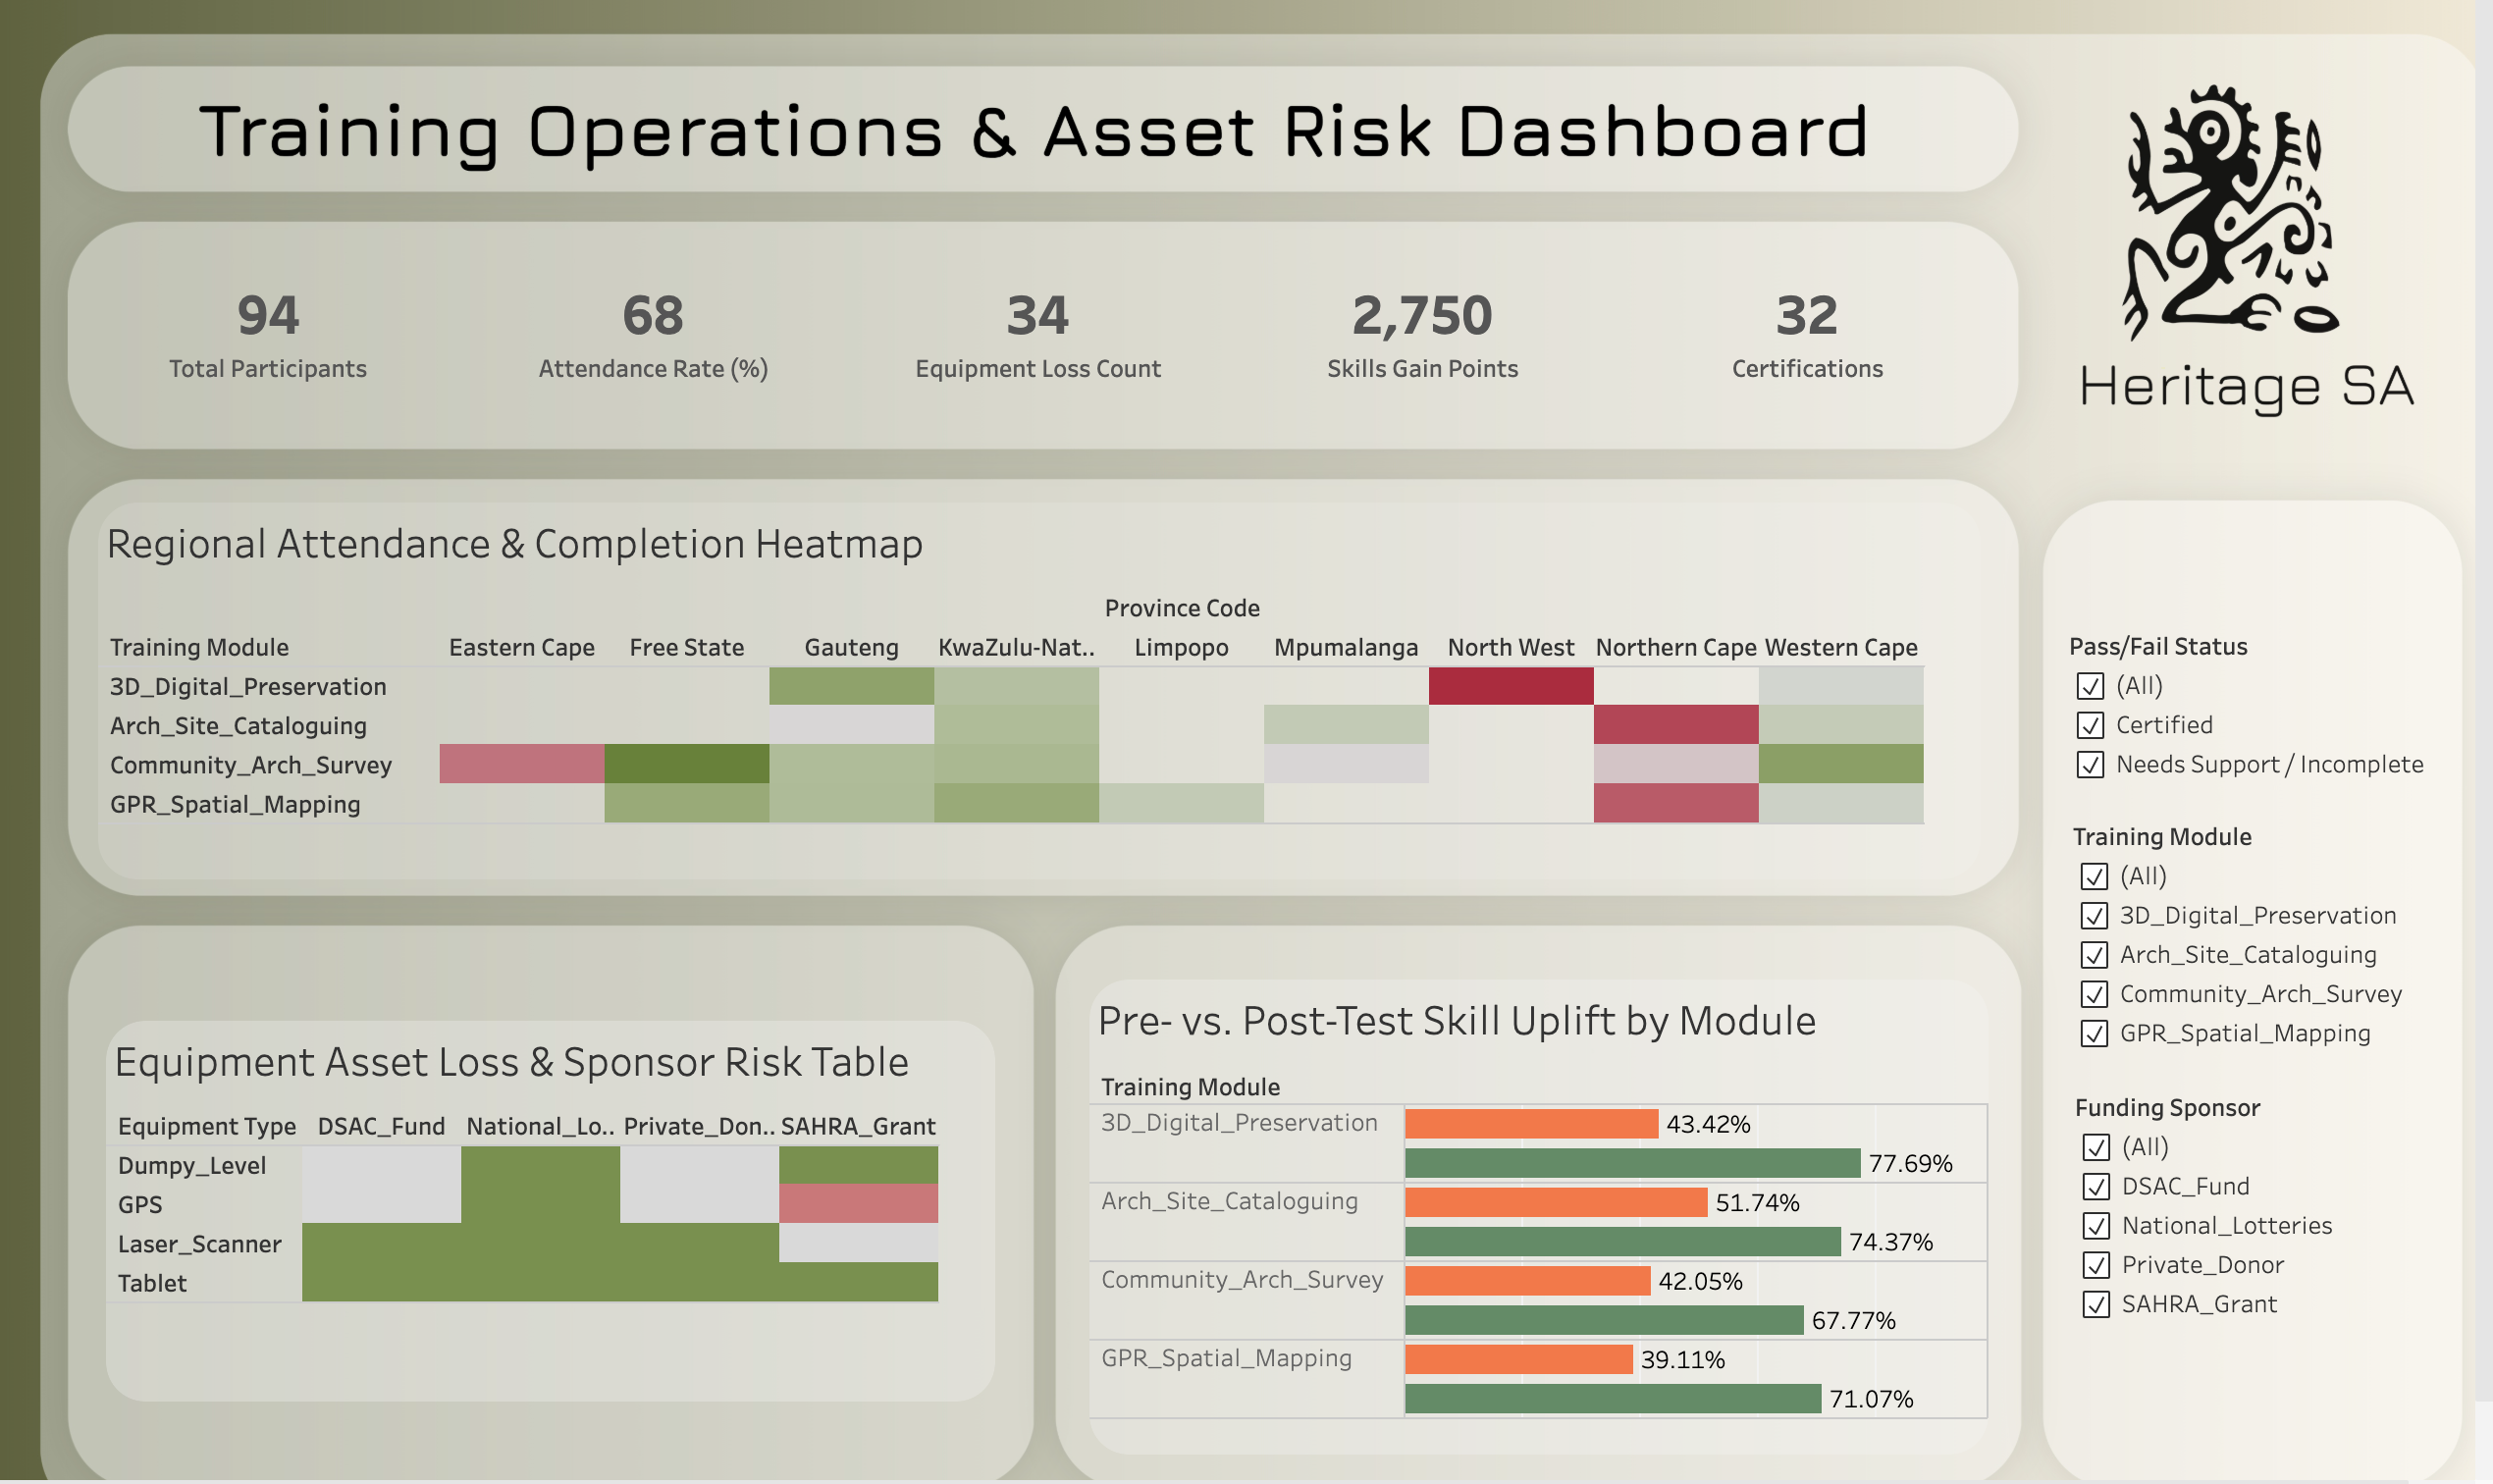

The page's visual inventory and layout, read from the dashboard file:
{"tool":"tableau","page":{"name":"Heritage Skills SA — Training Operations & Asset Risk Dashboard","canvas":[1300,800],"ordinal":0},"visuals":[{"type":"image","param":"Image/training dash.png","box":[0,0,1300,800]},{"type":"filter","title":"Executive KPI Scorecards","param":"[federated.0ipth7g1swqvdf1bhz7yt0xus0bm].[none:Province_Code:nk]","box":[1075,8,217,64]},{"type":"worksheet","title":"Executive KPI Scorecards","mark":"Text","box":[43,144,981,102]},{"type":"worksheet","title":"Regional Attendance & Completion Heatmap","mark":"Square","rows":["Training_Module"],"cols":["Province_Code"],"box":[54,260,959,192]},{"type":"filter","title":"Pre- vs. Post-Test Skill Uplift by Module","param":"[federated.0ipth7g1swqvdf1bhz7yt0xus0bm].[none:Calculation_0014535351029766:nk]","box":[1058,324,191,85]},{"type":"filter","title":"Regional Attendance & Completion Heatmap","param":"[federated.0ipth7g1swqvdf1bhz7yt0xus0bm].[none:Training_Module:nk]","box":[1060,421,187,125]},{"type":"worksheet","title":"Pre- vs. Post-Test Skill Uplift by Module","mark":"Automatic","rows":["Training_Module"],"box":[559,503,458,242]},{"type":"worksheet","title":"Equipment Asset Loss & Sponsor Risk Table","mark":"Automatic","cols":["Funding_Sponsor"],"box":[58,524,453,194]},{"type":"filter","title":"Equipment Asset Loss & Sponsor Risk Table","param":"[federated.0ipth7g1swqvdf1bhz7yt0xus0bm].[none:Funding_Sponsor:nk]","box":[1061,559,181,125]}]}

Visuals, with their boxes on the page's 1300x800 design canvas (x1, y1, x2, y2). These are canvas units, not pixel positions in the 2493x1484 screenshot, which may show the page scaled, cropped or inside an application window:
image: region(0, 0, 1300, 800)
"Executive KPI Scorecards" filter: region(1075, 8, 1292, 72)
"Executive KPI Scorecards" worksheet (Text marks): region(43, 144, 1024, 246)
"Regional Attendance & Completion Heatmap" worksheet (Square marks): region(54, 260, 1013, 452)
"Pre- vs. Post-Test Skill Uplift by Module" filter: region(1058, 324, 1249, 409)
"Regional Attendance & Completion Heatmap" filter: region(1060, 421, 1247, 546)
"Pre- vs. Post-Test Skill Uplift by Module" worksheet: region(559, 503, 1017, 745)
"Equipment Asset Loss & Sponsor Risk Table" worksheet: region(58, 524, 511, 718)
"Equipment Asset Loss & Sponsor Risk Table" filter: region(1061, 559, 1242, 684)
